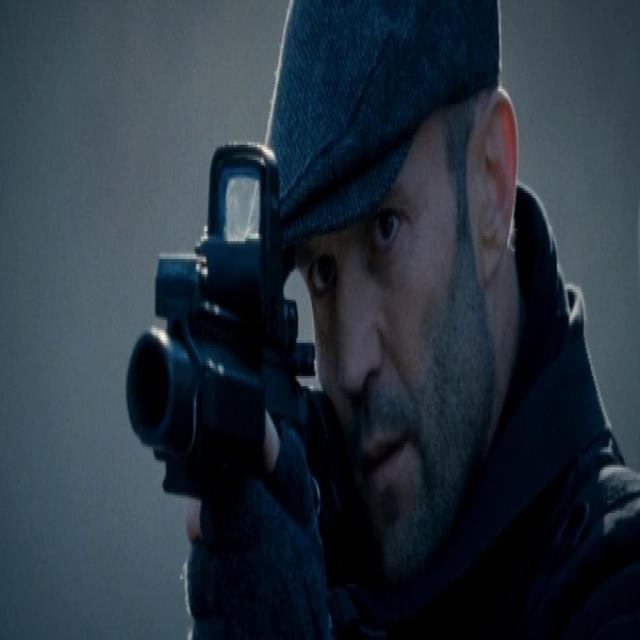rifle: (126, 122, 340, 514)
